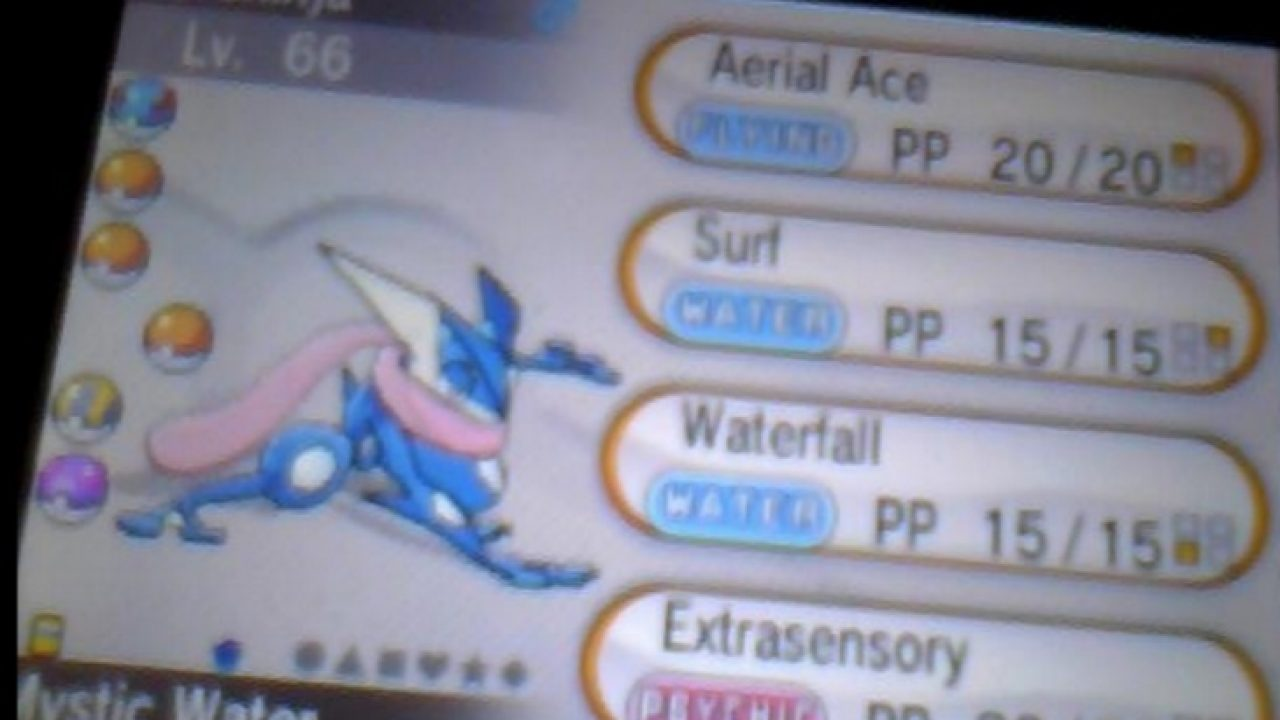greninja: (96, 246, 621, 630)
